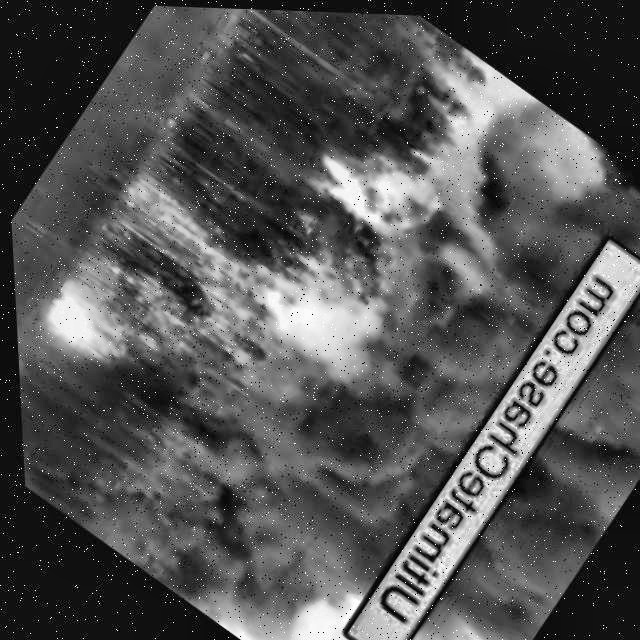Fire: (112, 162, 305, 321), (294, 113, 457, 266), (29, 268, 146, 379)
Smoke: (149, 68, 640, 640), (379, 198, 640, 640)
